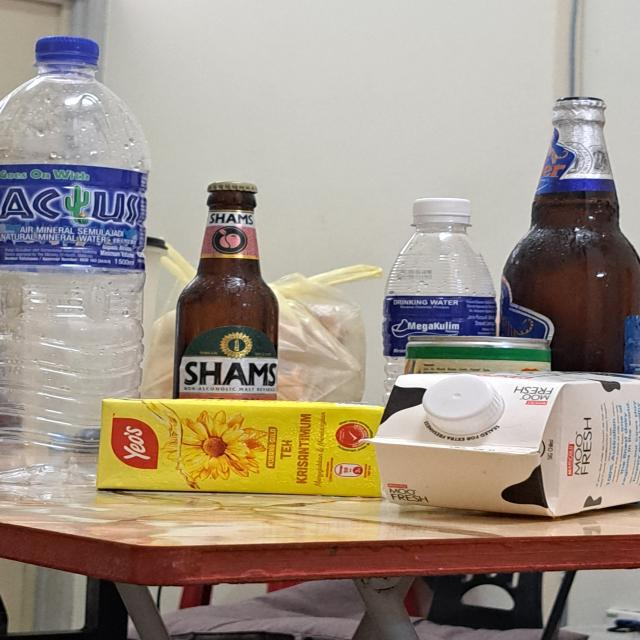can: (406, 335, 552, 374)
drink carton: (360, 370, 640, 518), (98, 398, 386, 497)
glass bottle: (500, 97, 640, 373), (171, 181, 279, 400)
plastic bottle: (0, 65, 146, 503), (383, 225, 494, 396)
plastic bottle cap: (422, 374, 502, 434), (35, 35, 100, 66), (411, 198, 471, 224)
